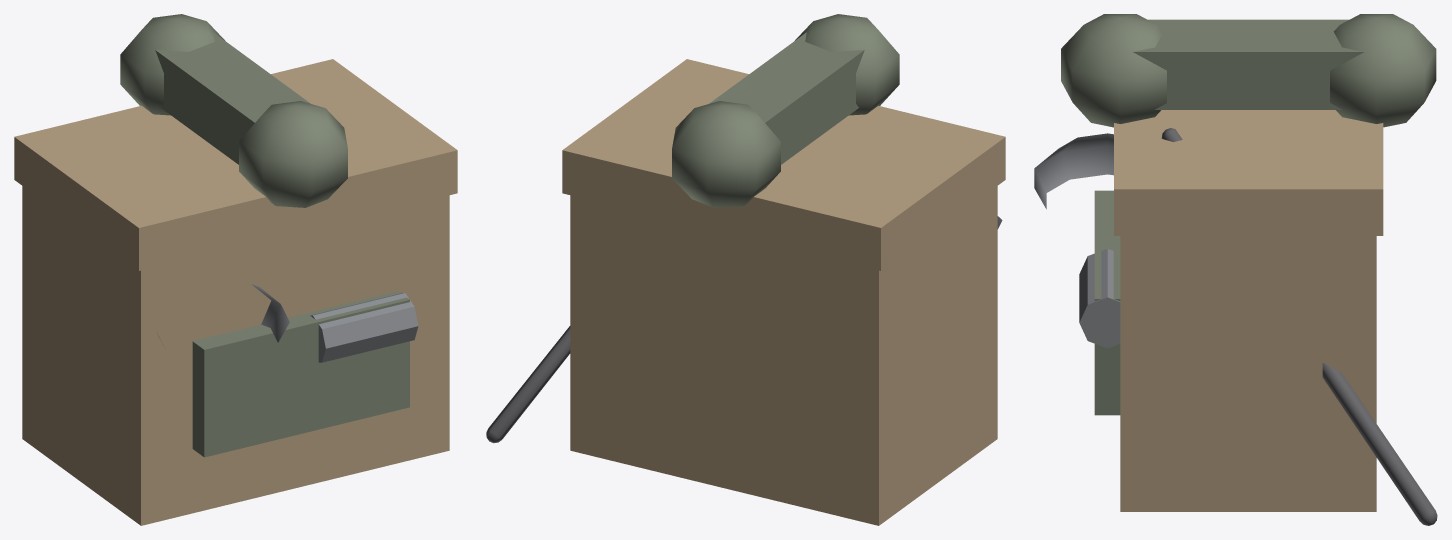
Rendered from armoured-column-and-field-camp-field-telephone-cda704df__23733.glb.
3 views of the same model, side by side, from view 1: azimuth 30°, elevation 25°; view 2: azimuth 150°, elevation 25°; view 3: azimuth 270°, elevation 25° (orthographic). The views are drawn at different scales.
Visible parts, largest first — view 1: field-telephone; view 2: field-telephone; view 3: field-telephone.
Part boxes in pixels (x1,y1,x2,y2): field-telephone: [14, 14, 457, 525]; field-telephone: [486, 14, 1005, 525]; field-telephone: [1034, 14, 1437, 525].
Size of the model in its own units: 0.3629 by 0.355 by 0.3145.
